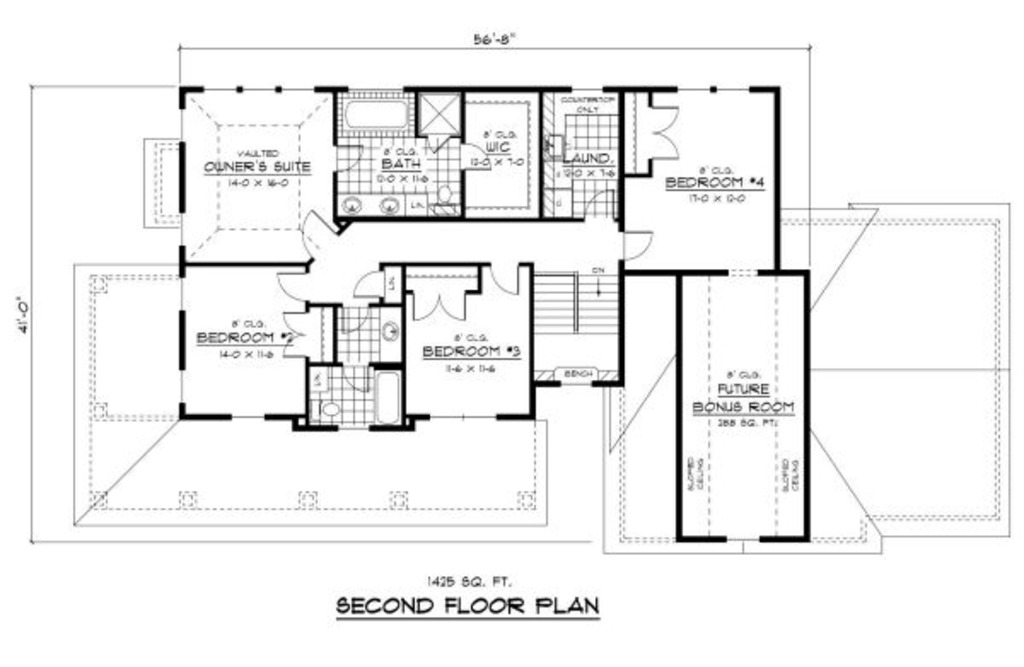door: (646, 100, 681, 162), (411, 291, 469, 325), (277, 307, 309, 360), (302, 206, 336, 255), (273, 267, 311, 303), (615, 226, 654, 259), (489, 262, 522, 297), (353, 269, 384, 298)
large_sink: (304, 396, 342, 423), (428, 184, 463, 213)
small_sink: (335, 190, 412, 217), (378, 304, 402, 364)
stairs: (533, 268, 619, 386)
tub: (338, 93, 415, 137), (370, 367, 400, 429)
windows: (197, 82, 320, 95), (672, 83, 751, 95), (174, 271, 191, 318), (177, 365, 191, 410), (223, 411, 267, 424), (724, 531, 763, 542)
